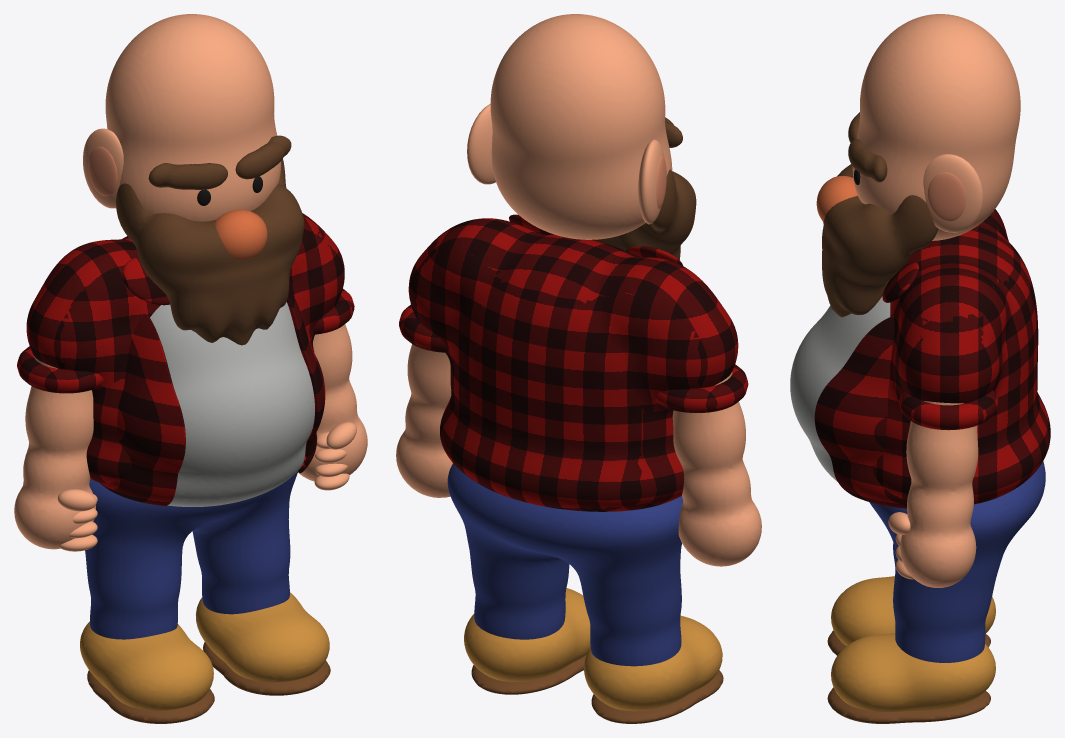
The model's file is player_v3.glb.
The picture shows the model from 3 angles, left to right: view 1: azimuth 30°, elevation 25°; view 2: azimuth 150°, elevation 25°; view 3: azimuth 270°, elevation 25°; orthographic projection. The views are drawn at different scales.
Visible parts, largest first — view 1: Skin, Jeans, Tee, Shirt, Beard, Boots, Shirt.Front.R.001, Soles, Brows, Shirt.Cuff.R, Nose, Shirt.Front.L.001 (+6 smaller); view 2: Shirt, Skin, Jeans, Boots, Soles, Beard, Shirt.Cuff.R, Ear.L, Ear.R, Shirt.Cuff.L; view 3: Skin, Shirt, Boots, Jeans, Shirt.Front.L.001, Beard, Tee, Soles, Shirt.Cuff.L, Ear.L, Ear.Inner.L, Brows (+2 smaller).
Part boxes in pixels (x1=…): Skin: x1=14, y1=14, x2=367, y2=549; Jeans: x1=85, y1=471, x2=297, y2=639; Tee: x1=150, y1=302, x2=314, y2=506; Shirt: x1=26, y1=213, x2=344, y2=483; Beard: x1=116, y1=159, x2=304, y2=345; Boots: x1=80, y1=592, x2=329, y2=710; Shirt.Front.R.001: x1=99, y1=313, x2=185, y2=506; Soles: x1=87, y1=642, x2=330, y2=723; Brows: x1=148, y1=135, x2=291, y2=189; Shirt.Cuff.R: x1=17, y1=346, x2=103, y2=393; Nose: x1=215, y1=209, x2=267, y2=259; Shirt.Front.L.001: x1=286, y1=289, x2=325, y2=473; Shirt: x1=408, y1=218, x2=738, y2=511; Skin: x1=396, y1=14, x2=761, y2=566; Jeans: x1=447, y1=463, x2=683, y2=666; Boots: x1=464, y1=588, x2=722, y2=711; Soles: x1=471, y1=656, x2=723, y2=723; Beard: x1=594, y1=169, x2=696, y2=259; Shirt.Cuff.R: x1=655, y1=364, x2=748, y2=412; Ear.L: x1=467, y1=103, x2=495, y2=184; Ear.R: x1=638, y1=139, x2=664, y2=224; Shirt.Cuff.L: x1=399, y1=304, x2=447, y2=352; Skin: x1=852, y1=14, x2=1020, y2=587; Shirt: x1=873, y1=209, x2=1050, y2=504; Boots: x1=831, y1=576, x2=995, y2=711; Jeans: x1=869, y1=461, x2=1045, y2=662; Shirt.Front.L.001: x1=814, y1=315, x2=907, y2=508; Beard: x1=822, y1=164, x2=938, y2=317; Tee: x1=790, y1=296, x2=890, y2=481; Soles: x1=827, y1=630, x2=990, y2=723; Shirt.Cuff.L: x1=899, y1=390, x2=998, y2=430; Ear.L: x1=923, y1=154, x2=983, y2=232; Ear.Inner.L: x1=927, y1=172, x2=966, y2=221; Brows: x1=848, y1=112, x2=887, y2=182.
Bounding box in the file's own units: 0.9506 × 1.73 × 0.6176.
10 materials, 1 textured.
